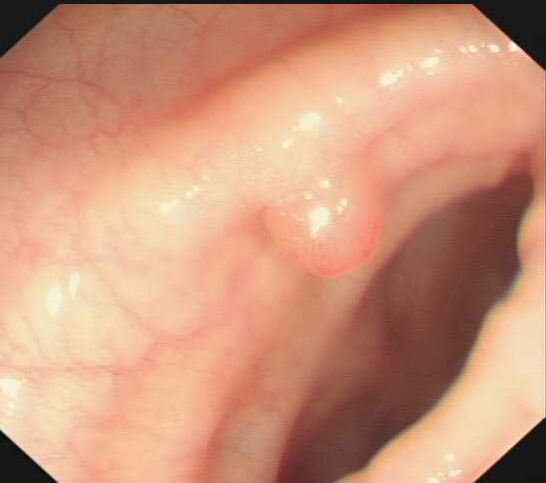adenoma: (260, 159, 384, 280)
